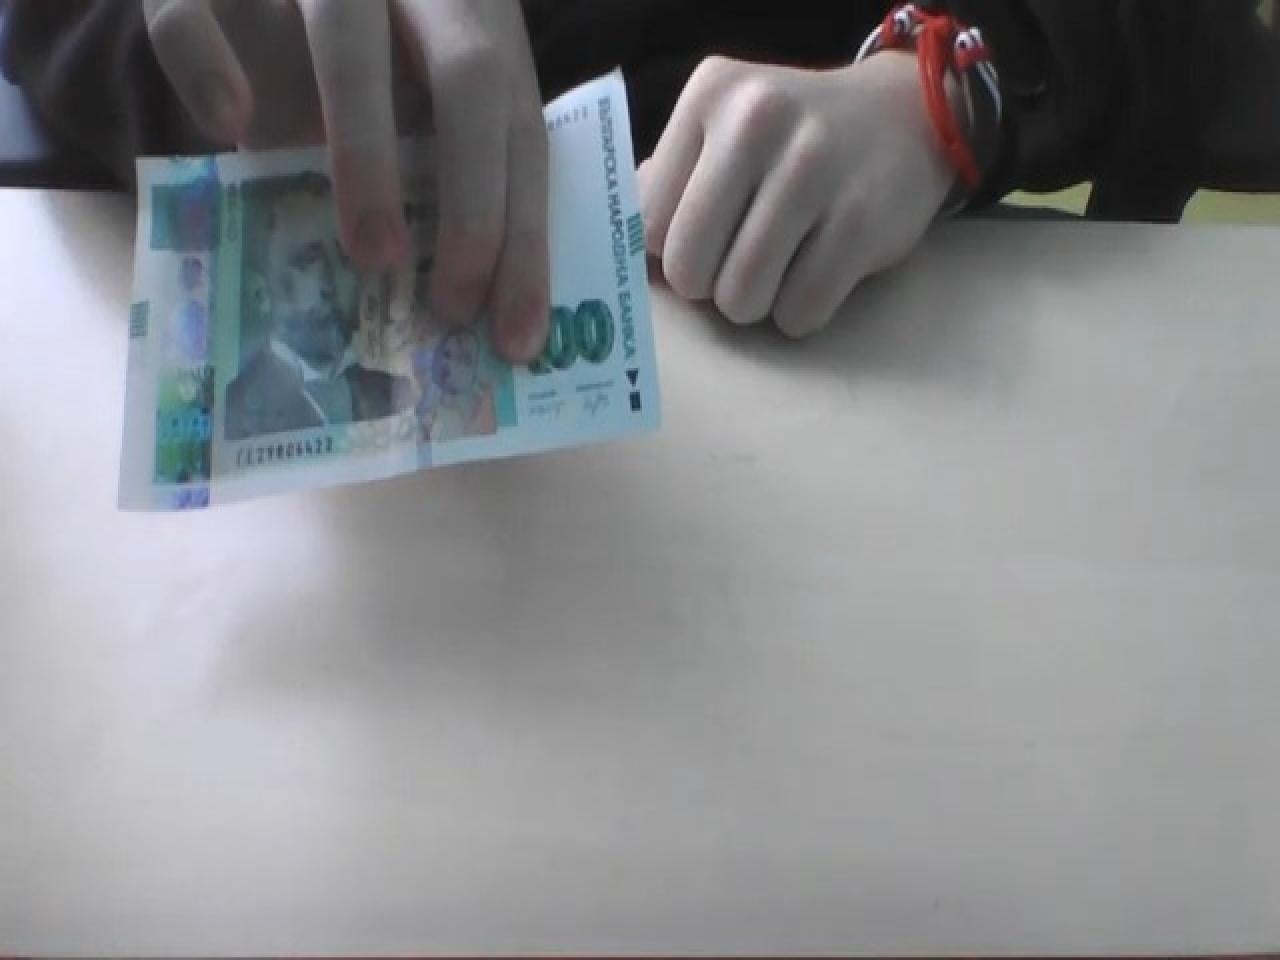100leva: (116, 83, 660, 512)
